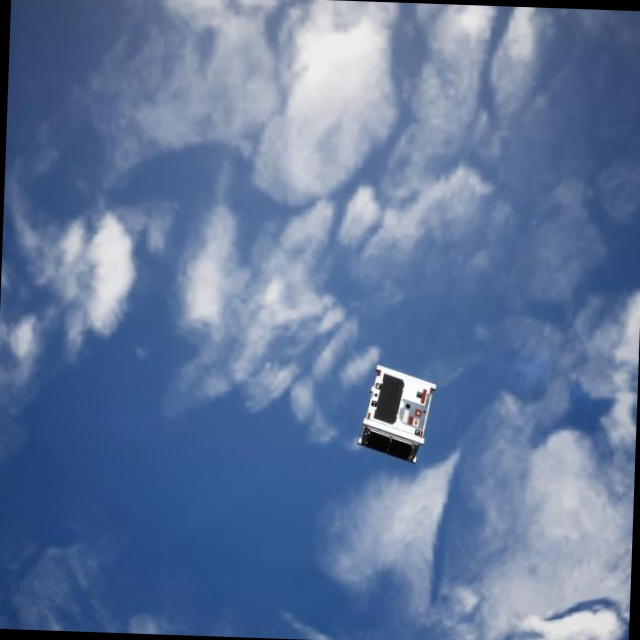medium_debris: (354, 362, 438, 465)
